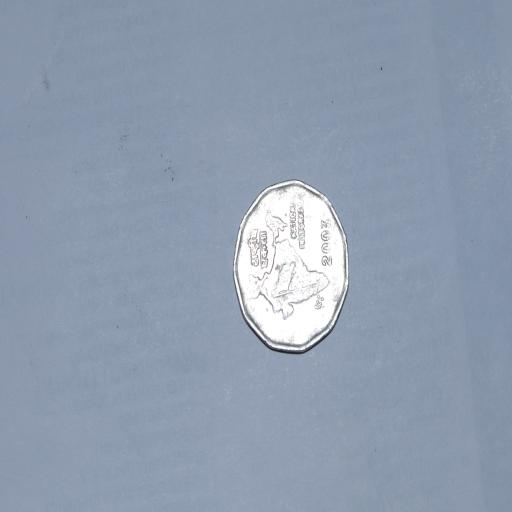rupee2: (233, 176, 349, 357)
